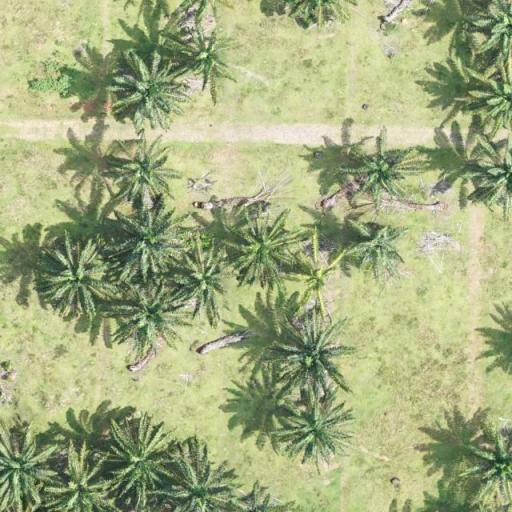Ganoderma: (352, 225, 397, 269), (292, 260, 339, 299)
